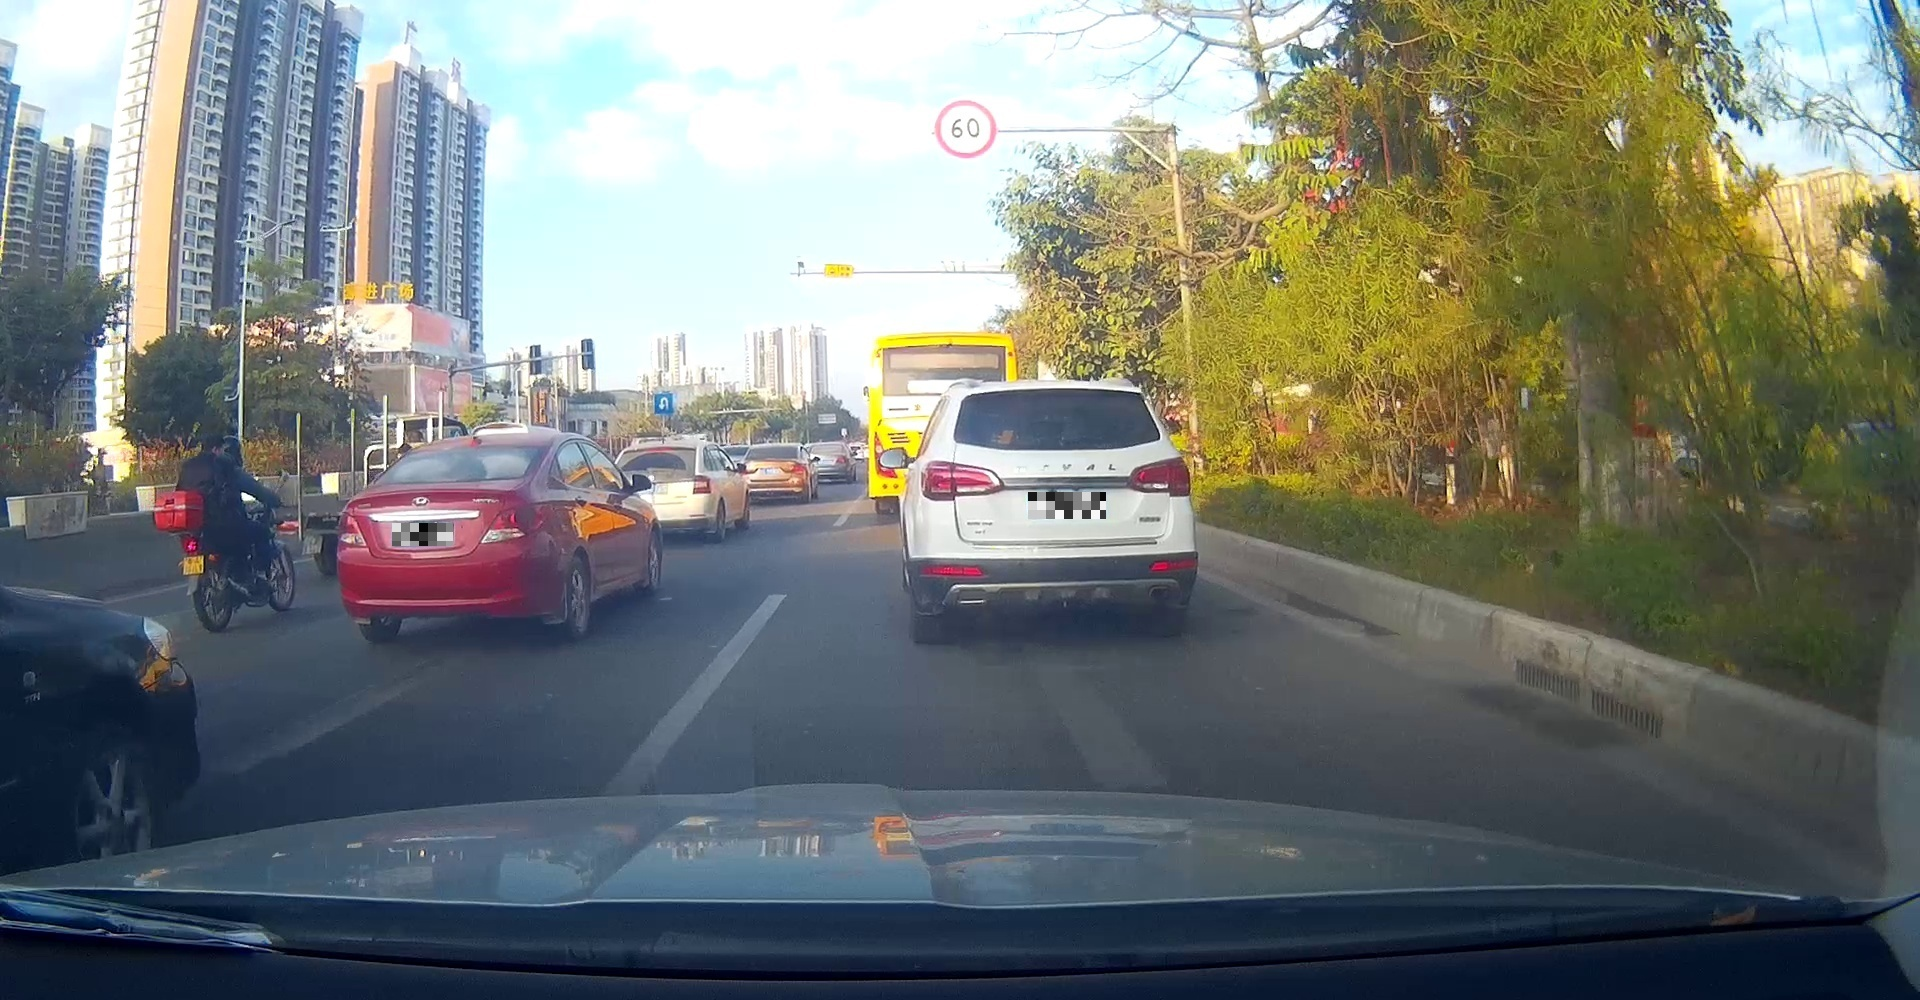L_light: (919, 459, 1004, 503), (337, 511, 368, 548)
R_light: (477, 503, 559, 544), (1126, 456, 1191, 497)
T_light: (1039, 388, 1084, 395), (425, 477, 458, 484)
day-no: (909, 378, 1197, 643), (337, 431, 561, 643)
plate_1: (392, 523, 453, 546)
plate_2: (1029, 492, 1106, 519)
